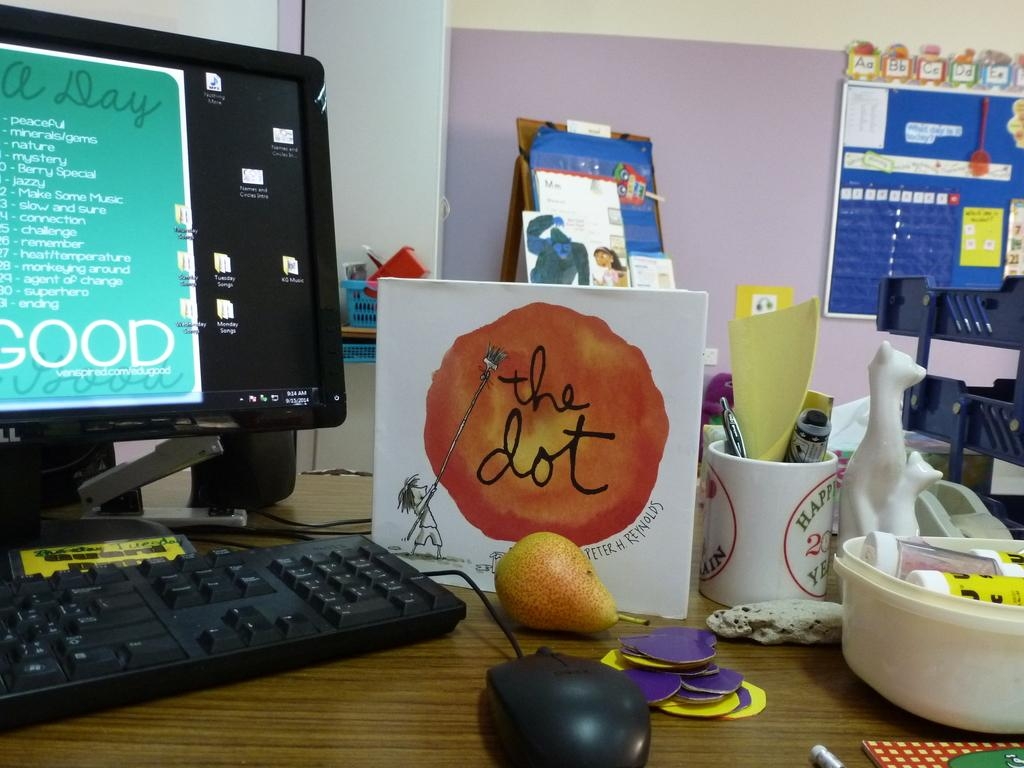Computer-mouse: (485, 644, 644, 767)
